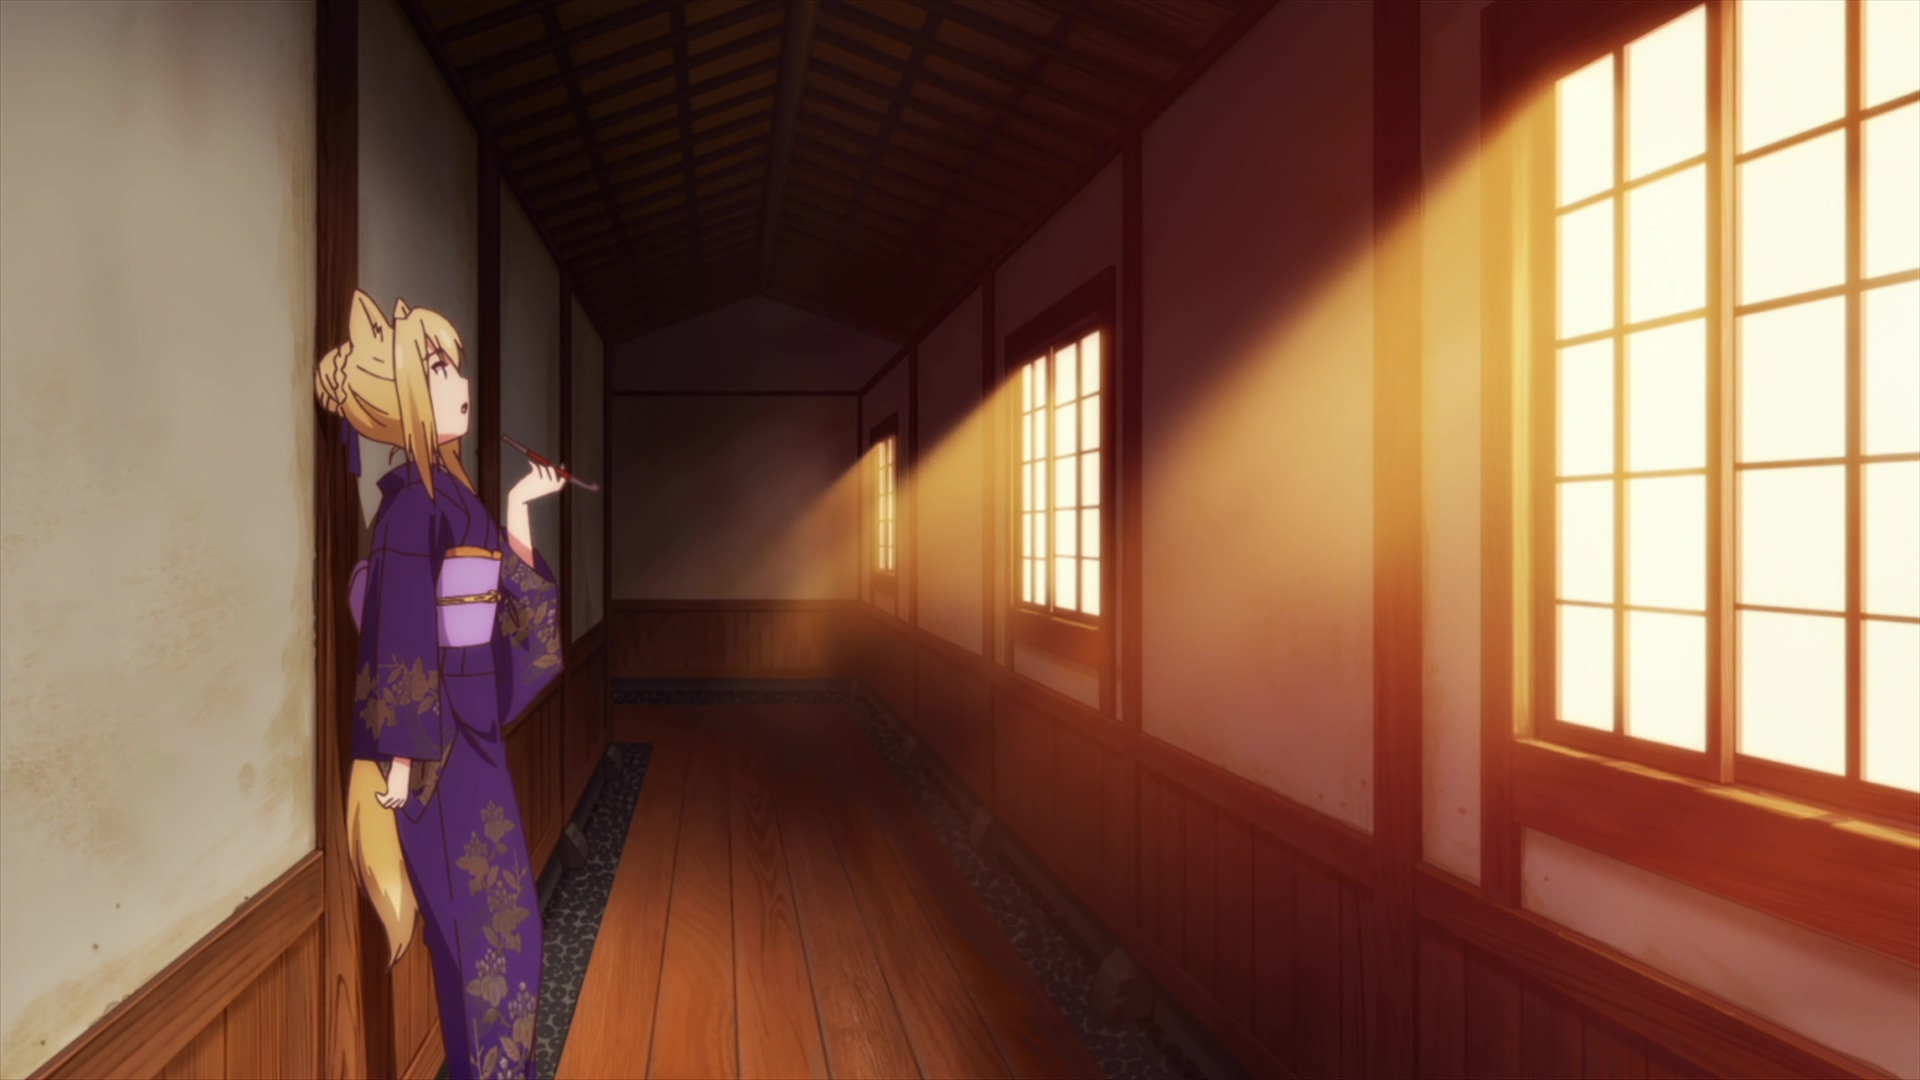桐: (314, 289, 600, 1080)
